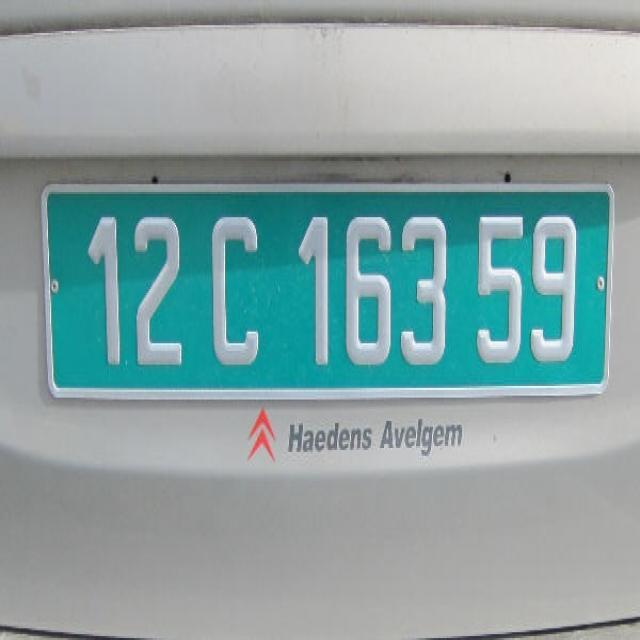licenseplate: (42, 180, 616, 395)
